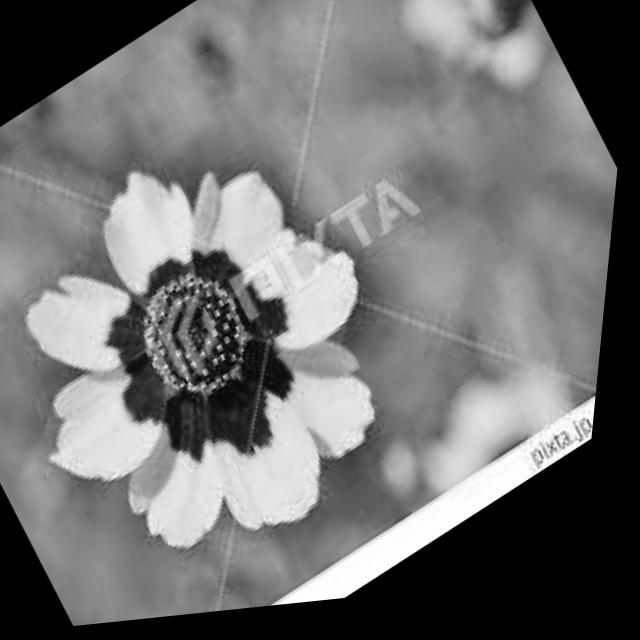Flower: (0, 79, 461, 623)
